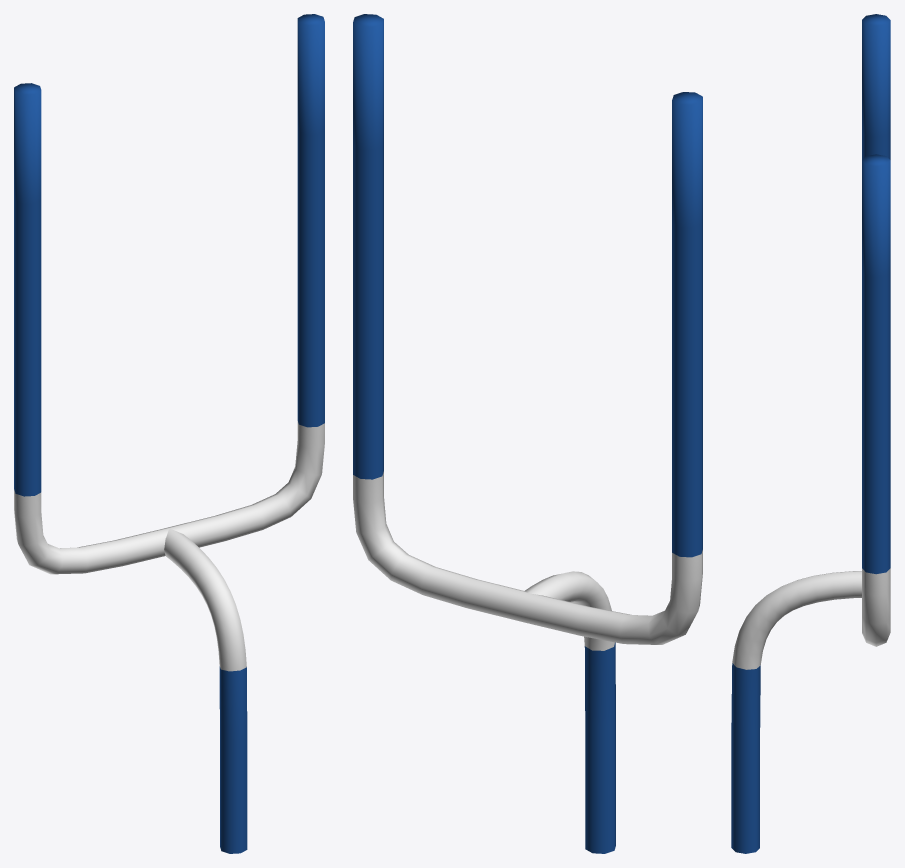
Rendered from Goal.fbx.
3 renders of one model, left to right at view 1: azimuth 30°, elevation 25°; view 2: azimuth 150°, elevation 25°; view 3: azimuth 270°, elevation 25°, orthographic. The views are drawn at different scales.
Visible parts, largest first — view 1: Goal; view 2: Goal; view 3: Goal.
Boxes of the visible parts, box(x1,y1,x2,y2) form: Goal: box(14, 14, 324, 853); Goal: box(353, 14, 702, 853); Goal: box(731, 14, 890, 853).
Bounding box in the file's own units: 502 × 1164 × 222.
